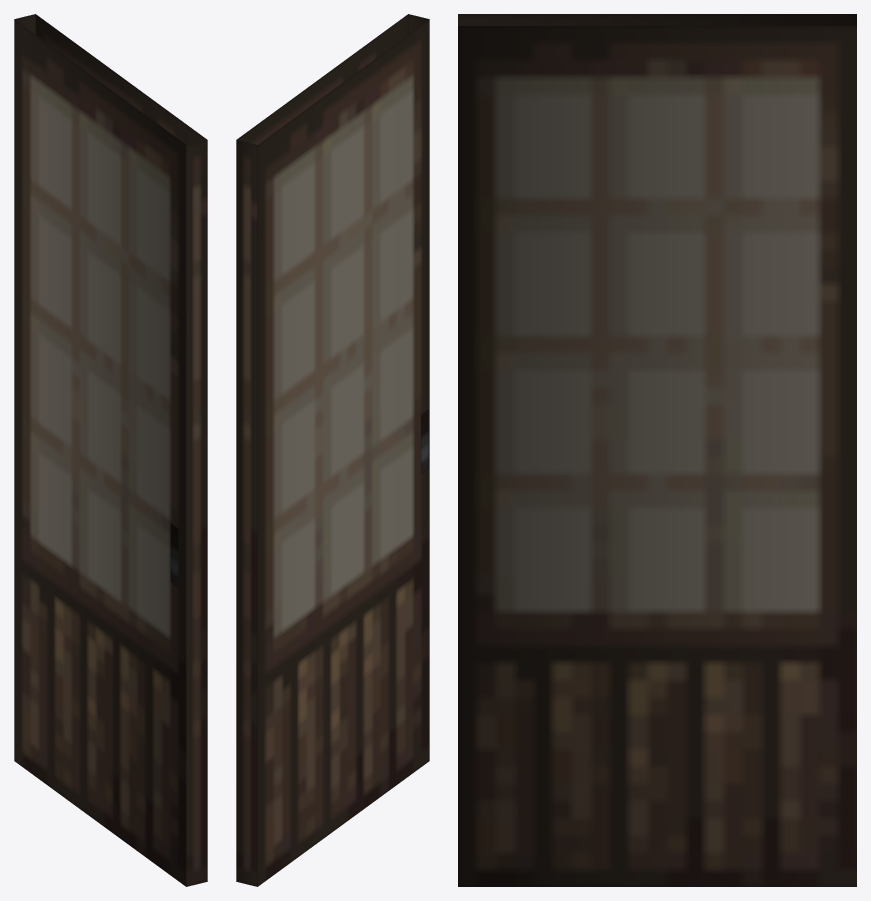
Rendered from EnvBdgMD_Desert_Dojo_A_Syouji_L.FBX.
3 views of the same model, side by side, from view 1: azimuth 30°, elevation 25°; view 2: azimuth 150°, elevation 25°; view 3: azimuth 270°, elevation 25° (orthographic). The views are drawn at different scales.
Parts seen in each view (by area): view 1: EnvBdgMD_Desert_Dojo_A_Syouji_L; view 2: EnvBdgMD_Desert_Dojo_A_Syouji_L; view 3: EnvBdgMD_Desert_Dojo_A_Syouji_L.
Part boxes in pixels (<box>): EnvBdgMD_Desert_Dojo_A_Syouji_L: <box>14,14,207,886</box>; EnvBdgMD_Desert_Dojo_A_Syouji_L: <box>236,14,429,886</box>; EnvBdgMD_Desert_Dojo_A_Syouji_L: <box>458,14,856,886</box>.
Bounding box in the file's own units: 8.75 × 250 × 105.
